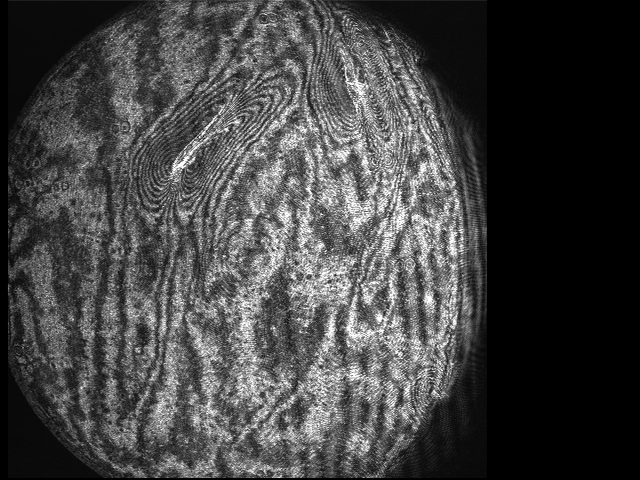plume: (128, 82, 280, 223)
